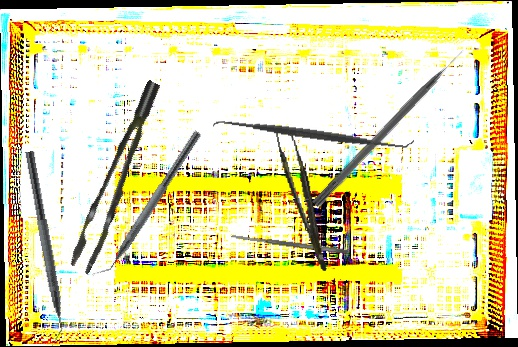Chopper: (89, 122, 203, 287), (11, 150, 72, 347)
Pusher: (311, 46, 469, 210)
Spatula Surgical: (212, 109, 415, 159), (231, 232, 348, 256)
Tissue Forceps: (52, 79, 185, 275), (275, 125, 327, 275)
